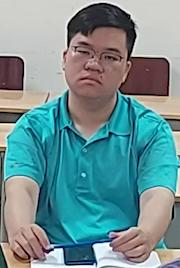Looking_Forward: (3, 2, 174, 263)
